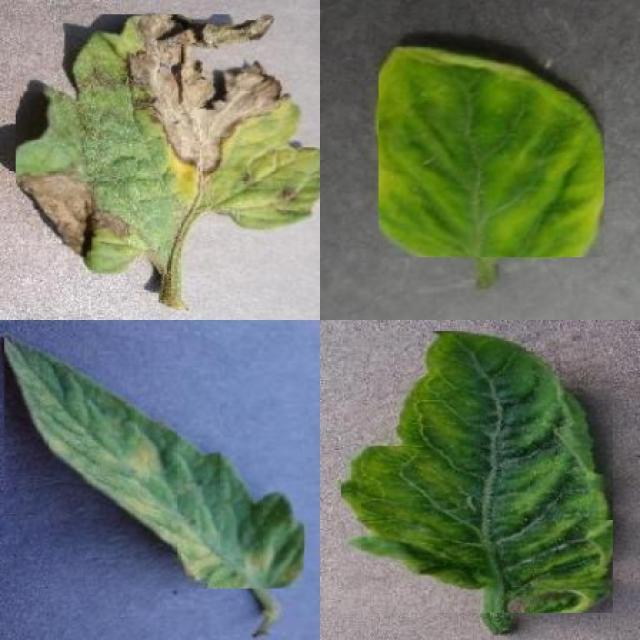Late Blight: (16, 15, 320, 274)
Leaf Mold: (5, 332, 305, 588)
Yellow Leaf Curl Virus: (340, 330, 613, 613), (379, 46, 604, 257)
